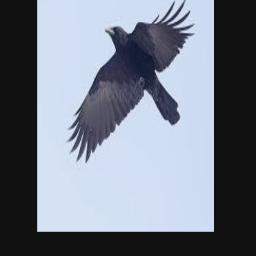Crow: (68, 0, 195, 160)
